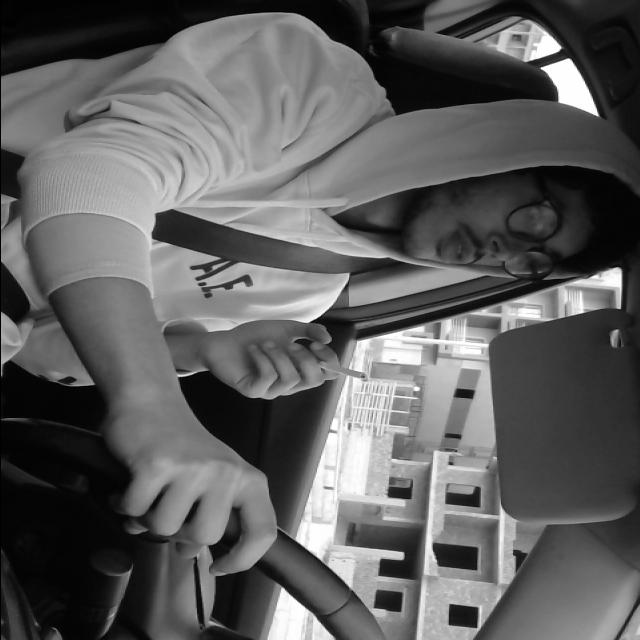smoking: (307, 353, 370, 386)
